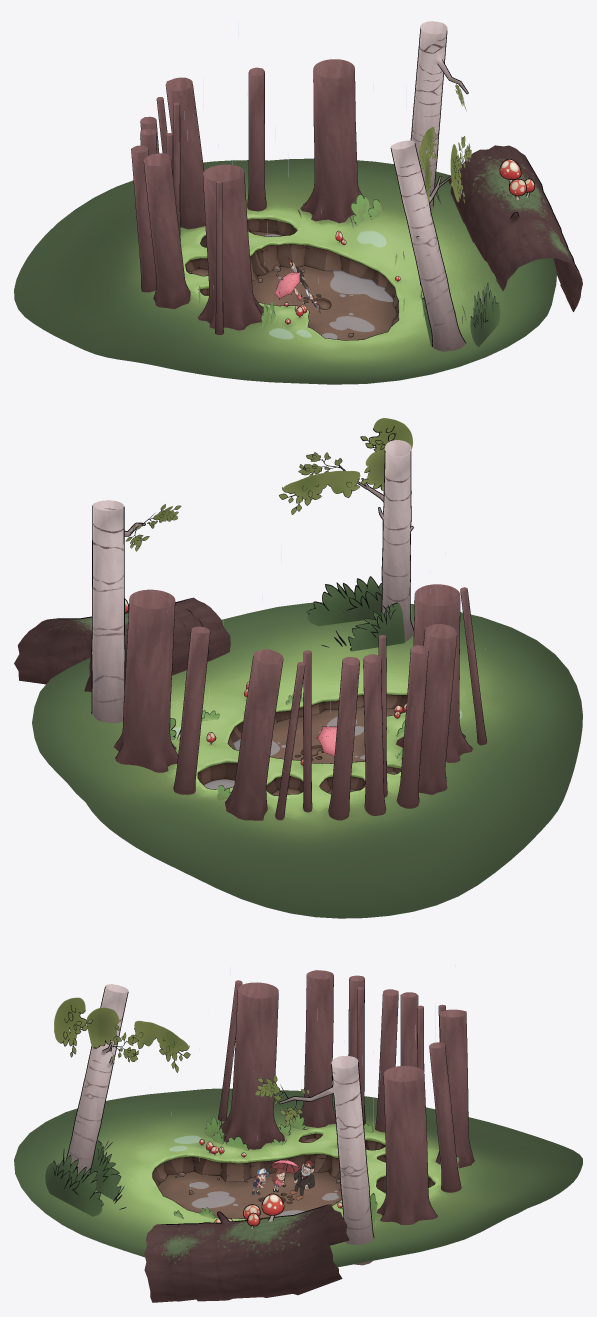
The picture shows the model from 3 angles, top to bottom: view 1: azimuth 30°, elevation 25°; view 2: azimuth 150°, elevation 25°; view 3: azimuth 270°, elevation 25°; orthographic projection. The views are drawn at different scales.
Parts seen in each view (by area): view 1: Terrain, Tree_fallen.001, Tree_huge.002, Terrain_bottom, Tree_huge.001, Tree_birch_L.001, Tree_big.001, Terrain_edge, Tree_birch_R.001, Tree_big.002, Plants_plane, Tree_small.003 (+5 smaller); view 2: Terrain, Plants_plane, Tree_huge.002, Tree_birch_R.001, Tree_fallen.001, Tree_big.002, Tree_birch_L.001, Tree_big.001, Tree_huge.001, Tree_small.003, Tree_small.004, Tree_small.005 (+7 smaller); view 3: Terrain, Tree_fallen.001, Plants_plane, Tree_huge.001, Tree_huge.002, Tree_birch_R.001, Terrain_bottom, Tree_big.001, Tree_birch_L.001, Tree_big.002, Terrain_edge, Tree_small.003 (+7 smaller).
Part boxes in pixels (x1,y1,x2,y2): Terrain: [14, 158, 556, 384]; Tree_fallen.001: [448, 145, 582, 311]; Tree_huge.002: [300, 59, 363, 223]; Terrain_bottom: [188, 231, 396, 340]; Tree_huge.001: [198, 164, 263, 330]; Tree_birch_L.001: [390, 140, 466, 351]; Tree_big.001: [143, 153, 190, 309]; Terrain_edge: [185, 218, 398, 325]; Tree_birch_R.001: [410, 21, 468, 211]; Tree_big.002: [165, 77, 205, 229]; Plants_plane: [257, 73, 500, 347]; Tree_small.003: [247, 67, 266, 211]; Terrain: [32, 602, 582, 918]; Plants_plane: [125, 418, 412, 759]; Tree_huge.002: [114, 589, 177, 772]; Tree_birch_R.001: [91, 500, 145, 723]; Tree_fallen.001: [14, 597, 230, 691]; Tree_big.002: [225, 649, 283, 820]; Tree_birch_L.001: [339, 440, 413, 641]; Tree_big.001: [419, 624, 457, 794]; Tree_huge.001: [396, 584, 472, 762]; Tree_small.003: [173, 626, 210, 794]; Tree_small.004: [396, 645, 428, 808]; Tree_small.005: [328, 657, 359, 820]; Terrain: [14, 1088, 582, 1267]; Tree_fallen.001: [144, 1204, 349, 1302]; Plants_plane: [45, 997, 310, 1218]; Tree_huge.001: [220, 982, 284, 1149]; Tree_huge.002: [376, 1066, 437, 1224]; Tree_birch_R.001: [278, 1056, 374, 1265]; Terrain_bottom: [158, 1138, 385, 1218]; Tree_big.001: [300, 970, 335, 1127]; Tree_birch_L.001: [66, 984, 128, 1174]; Tree_big.002: [435, 1009, 474, 1168]; Terrain_edge: [152, 1133, 434, 1191]; Tree_small.003: [429, 1042, 461, 1192].
Bounding box in the file's own units: 3.47 × 1.74 × 3.72.
12 materials, 10 textured.
